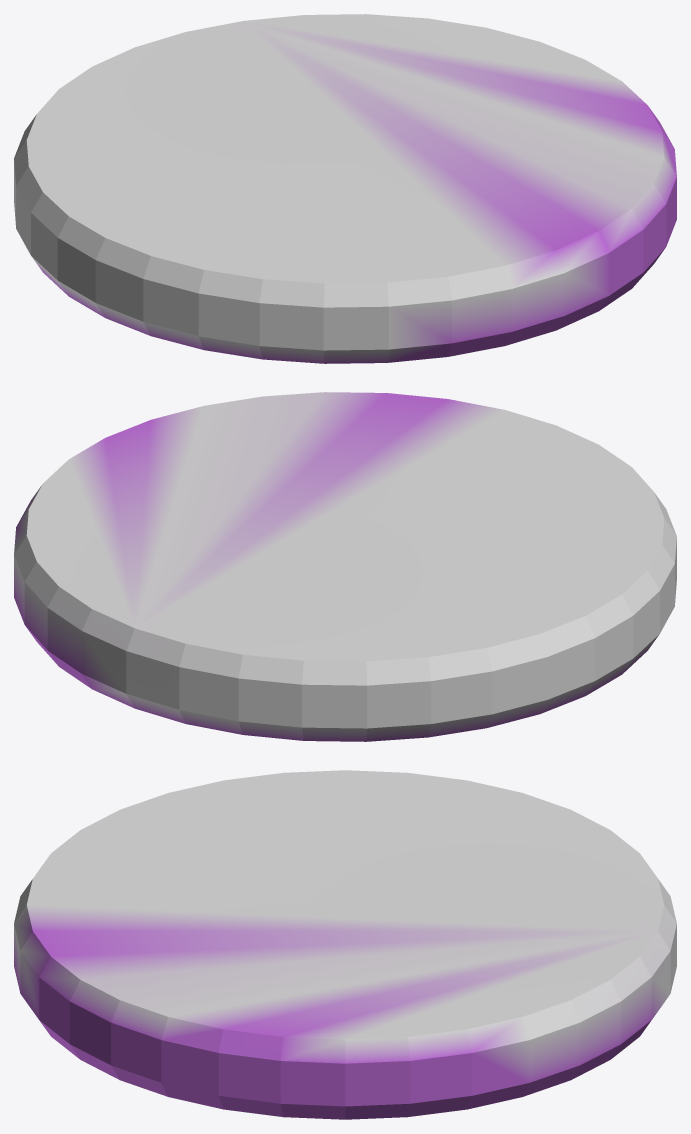
Rendered from bettertargetmiddle.fbx.
The picture shows the model from 3 angles, top to bottom: view 1: azimuth 30°, elevation 25°; view 2: azimuth 150°, elevation 25°; view 3: azimuth 270°, elevation 25°; orthographic projection.
Visible parts, largest first — view 1: middle blade; view 2: middle blade; view 3: middle blade.
Boxes of the visible parts, x1,y1,x2,y2 form: middle blade: [14, 14, 676, 363]; middle blade: [14, 392, 676, 741]; middle blade: [14, 770, 676, 1119].
Bounding box in the file's own units: 600 × 80 × 600.
